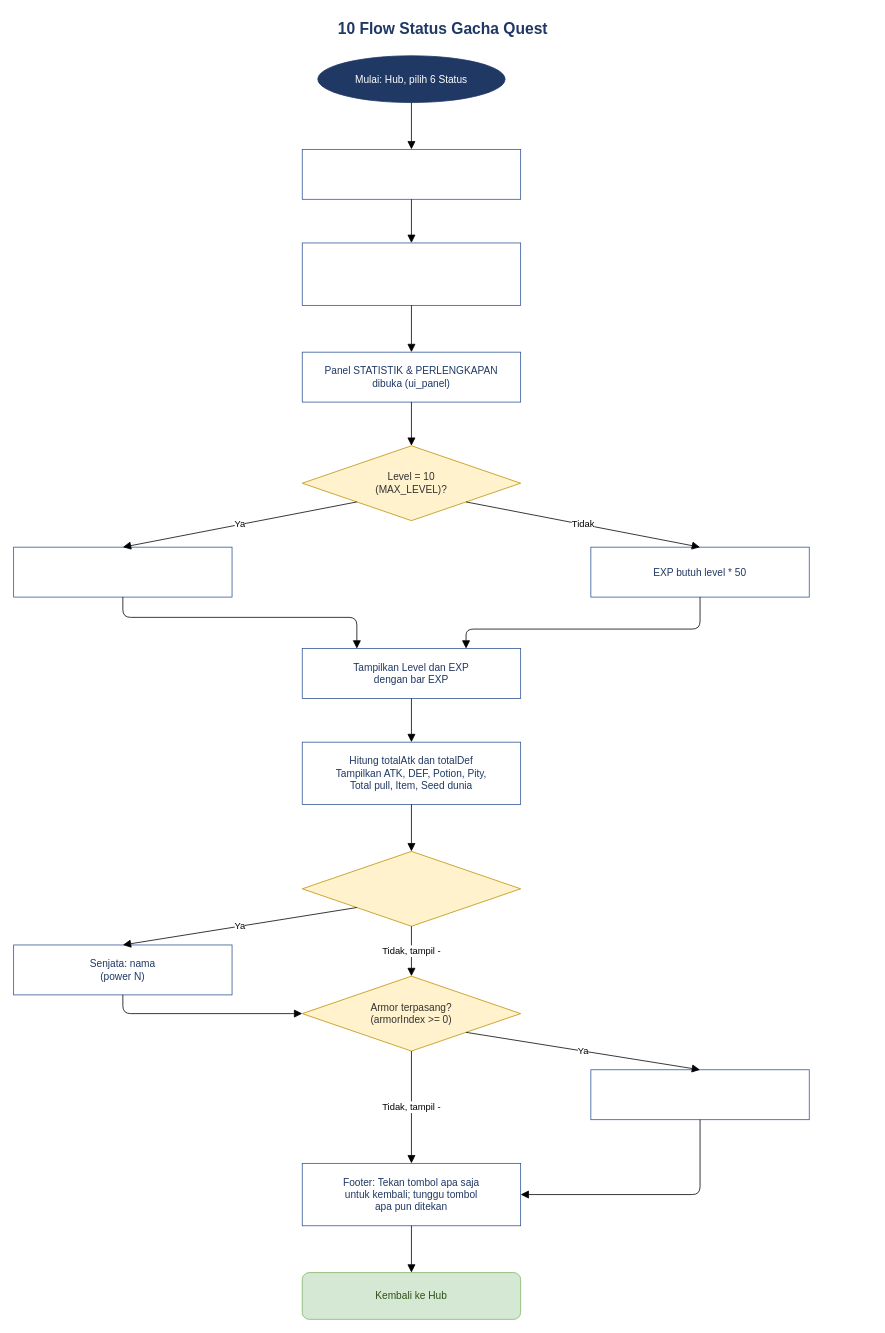
This 885x1333 diagram has some shape labels left out. Here are the shapes that lost their labels. From the top down, the centre of each, then its label:
At (411,174): "showStatus(p) dipanggil dari runHub case 6".
At (411,273): "Panel status pemain: nama, Level (Skor), bar HP, Gold, Potion".
At (122,571): "EXP tampil 0 level sudah maks".
At (411,888): "Senjata terpasang? (weaponIndex >= 0)".
At (699,1094): "Armor: nama (power N)".
